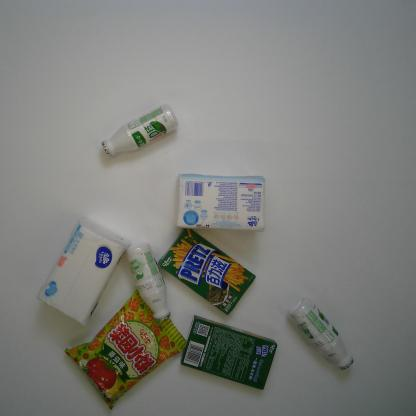Dessert: (157, 228, 258, 316), (179, 316, 280, 391)
Milk: (286, 296, 355, 373), (100, 102, 179, 158), (123, 240, 172, 323)
Puffed Food: (63, 284, 188, 412)
Tissue: (34, 217, 130, 328), (175, 173, 265, 233)
